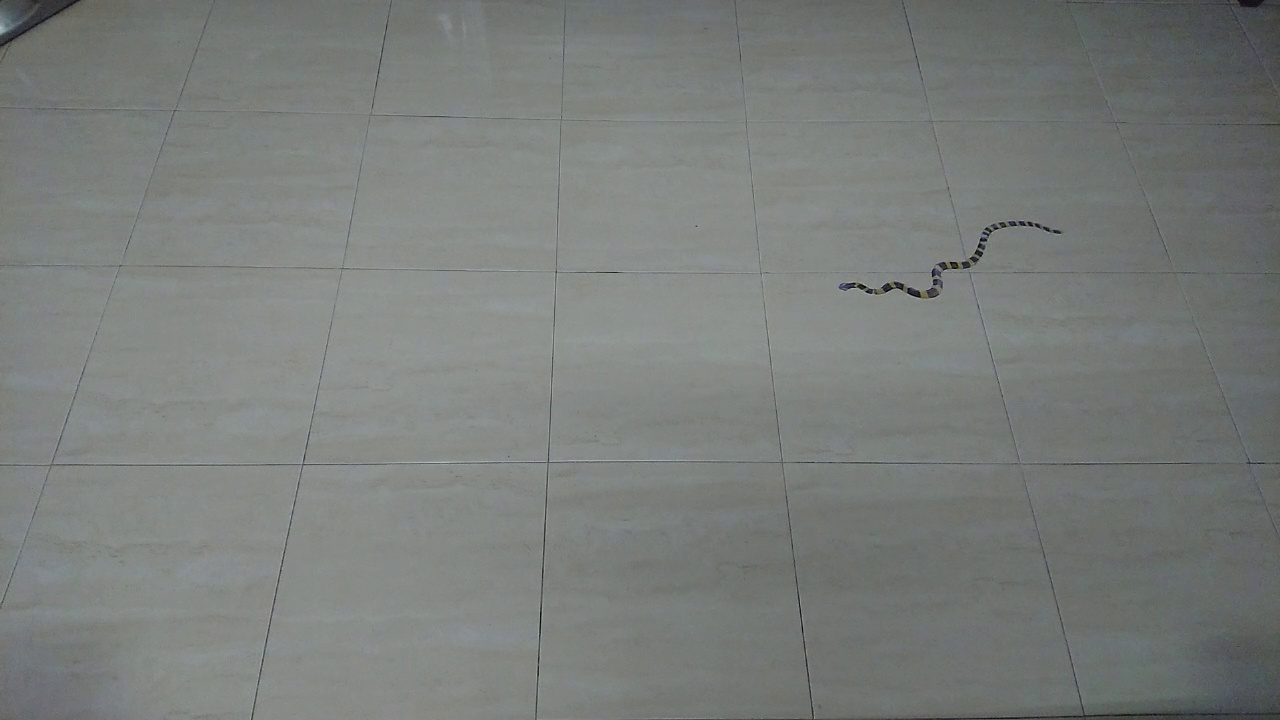snake: (824, 207, 1076, 311)
